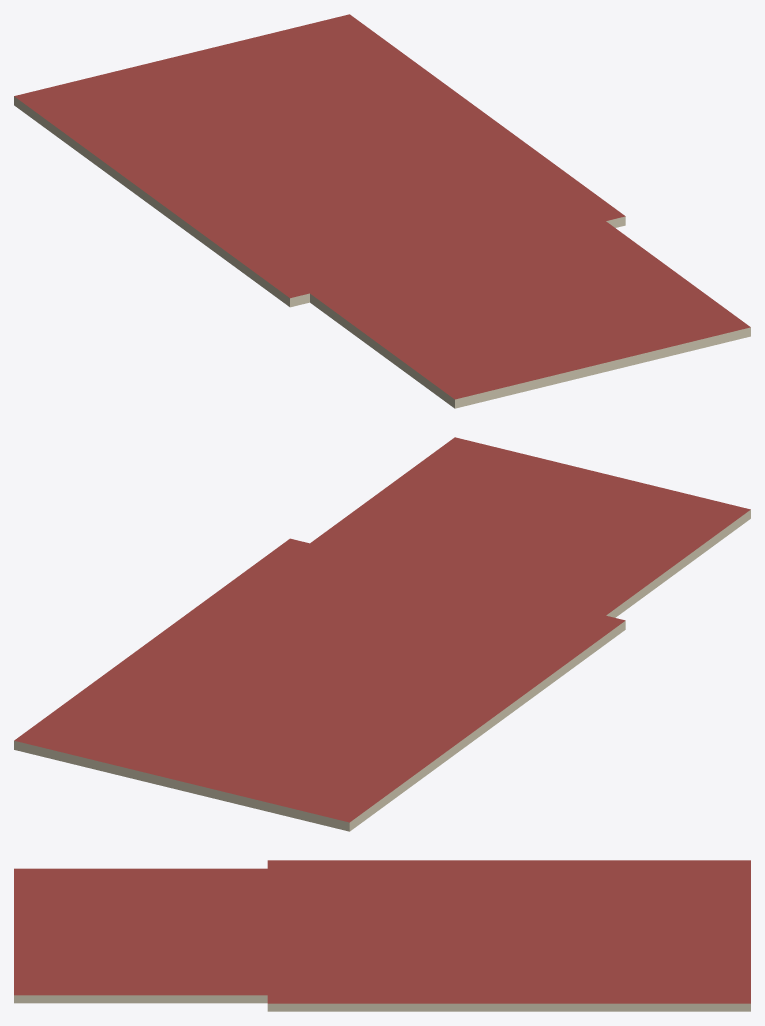
The model's file is techo_edificio.glb.
3 renders of one model, top to bottom at view 1: azimuth 30°, elevation 25°; view 2: azimuth 150°, elevation 25°; view 3: azimuth 270°, elevation 25°, orthographic. The views are drawn at different scales.
Visible parts, largest first — view 1: techo edificio; view 2: techo edificio; view 3: techo edificio.
Part boxes in pixels (x1,y1,x2,y2): techo edificio: (14,14,750,408); techo edificio: (14,437,750,831); techo edificio: (14,860,750,1011).
Size of the model in its own units: 66.45 by 1.73 by 144.
